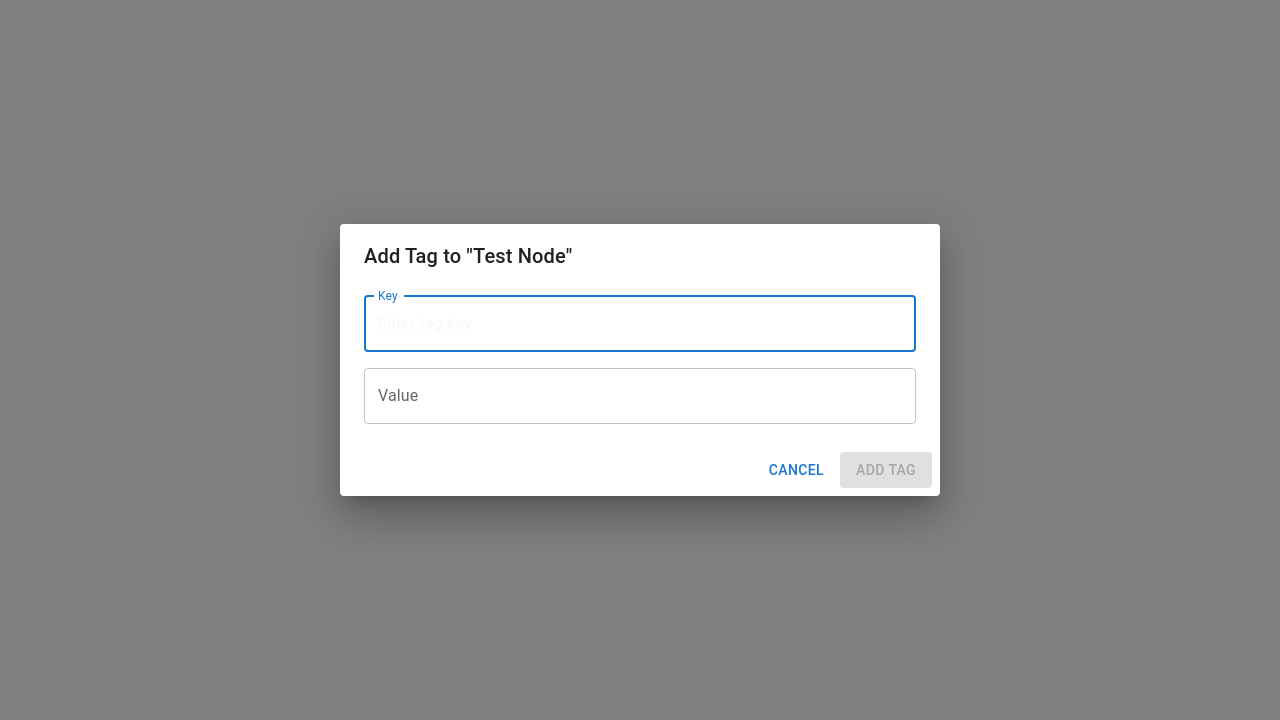
it: AddTagDialog › should enable add button when both key and value are provided
In the field labelled "Key": coordinates (640, 324) [364,296,916,352], type "category"
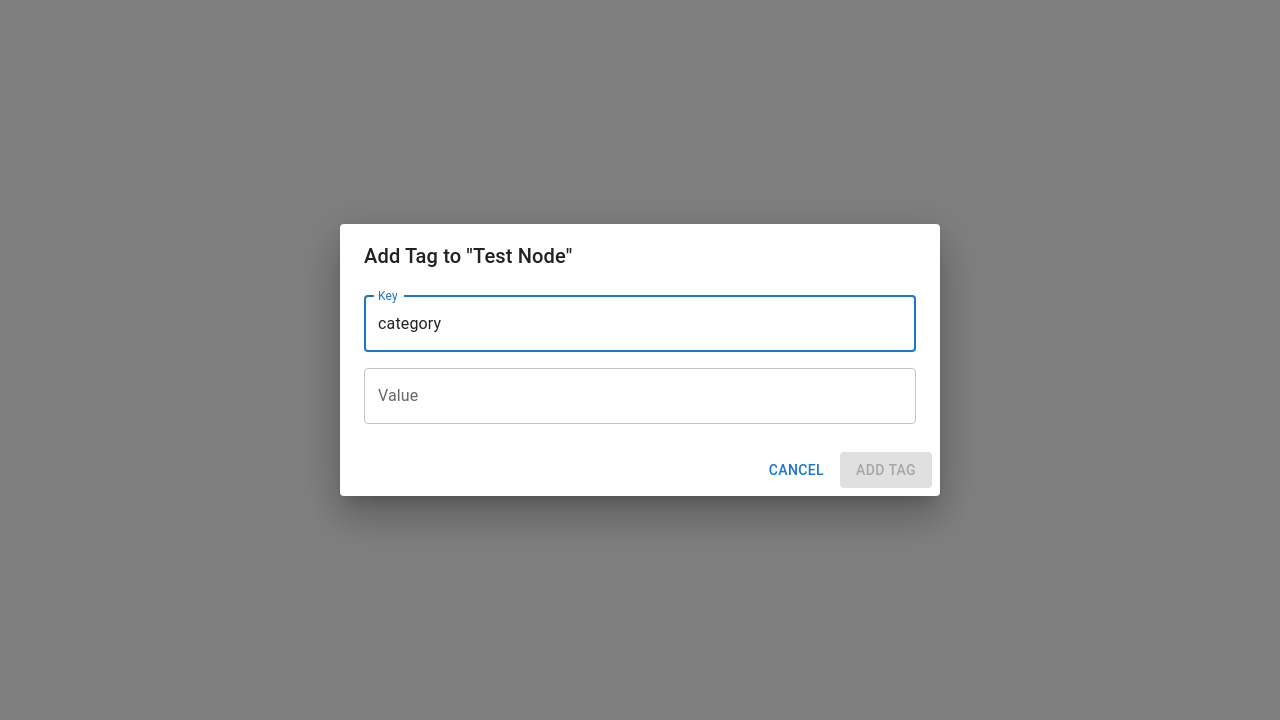
In the field labelled "Value": coordinates (640, 396) [364,368,916,424], type "important"
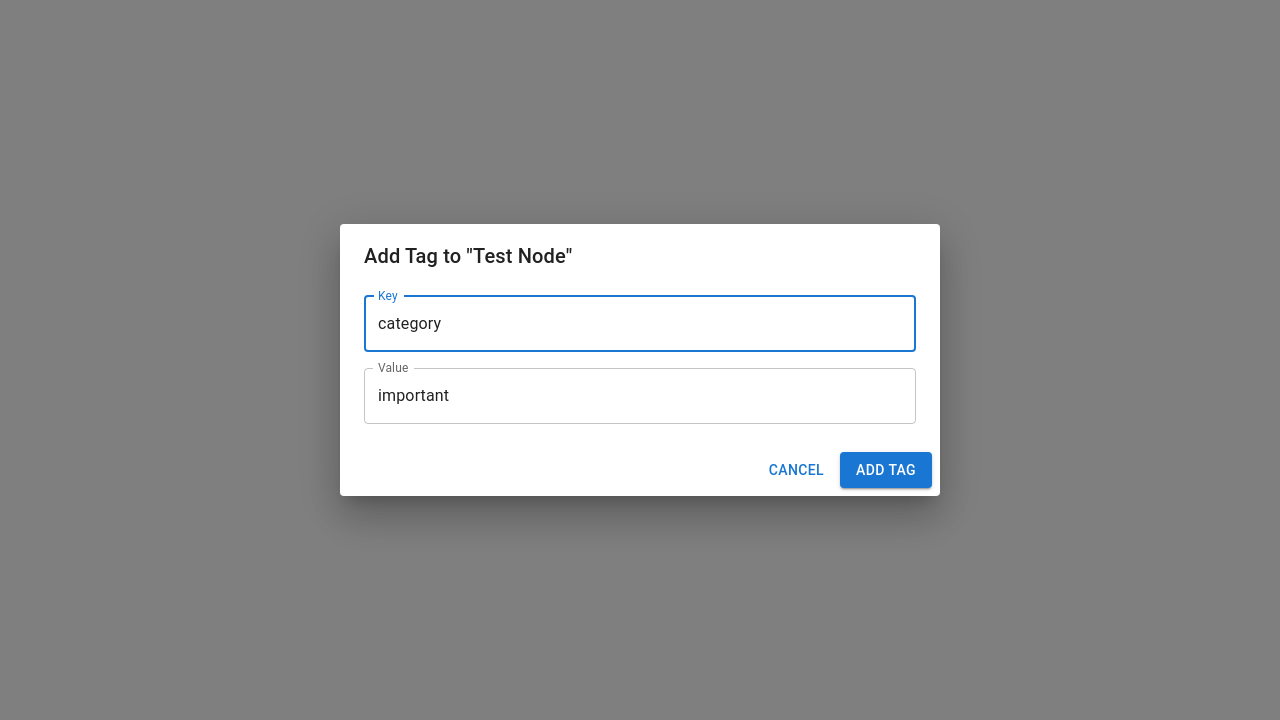
Now the button "Add Tag" is enabled, box [840,452,932,488]
